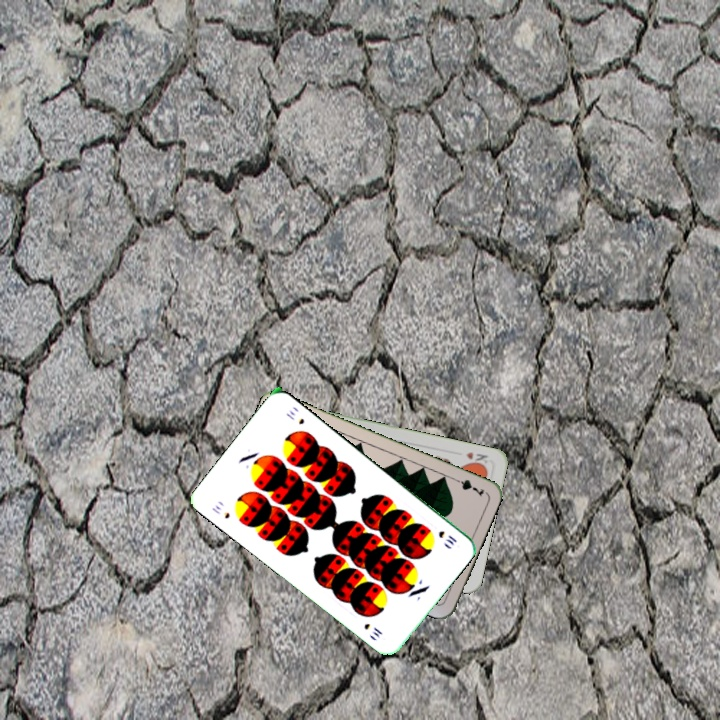G7: (448, 473, 487, 499)
HK: (462, 448, 490, 469)
S10: (434, 527, 460, 548), (208, 501, 233, 521)
